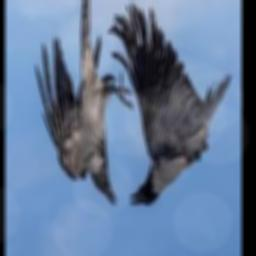Crow: (108, 3, 231, 206), (34, 0, 132, 206)
